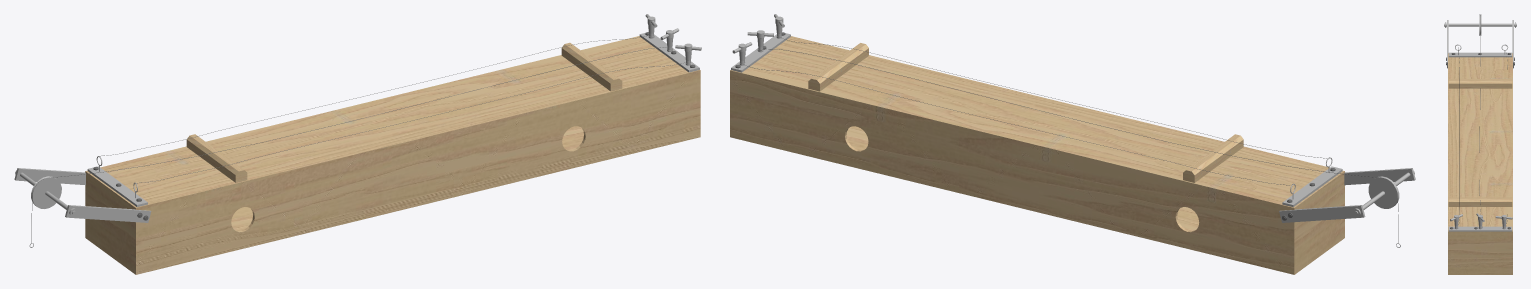
The model's file is A sonometer.fbx.
3 views of the same model, side by side, from view 1: azimuth 30°, elevation 25°; view 2: azimuth 150°, elevation 25°; view 3: azimuth 270°, elevation 25° (orthographic). The views are drawn at different scales.
Visible parts, largest first — view 1: pCube10, pCube6, pCube2, pCube7, pCube8, pCylinder4, pCylinder23, pCube5, pCube4, pCylinder22, pCylinder21; view 2: pCube10, pCube2, pCube6, pCube8, pCube7, pCylinder4, pCube5, pCylinder23, pCube4, pCylinder22, pCylinder21; view 3: pCube10, pCube2, pCube6, pCube5, pCube4, pCylinder1, pCylinder18 (×3), pCylinder21, pCylinder23, pCube8, pCube7, pCylinder4.
Part boxes in pixels (x1,y1,x2,y2): pCube10: (85,36,700,274); pCube6: (561,42,622,91); pCube2: (186,134,247,182); pCube7: (65,205,151,222); pCube8: (14,168,85,185); pCylinder4: (31,176,61,208); pCylinder23: (31,47,672,242); pCube5: (87,166,147,206); pCube4: (639,33,699,72); pCylinder22: (98,35,652,156); pCylinder21: (135,62,685,183); pCube10: (730,36,1344,274); pCube2: (1183,134,1243,182); pCube6: (808,43,868,91); pCube8: (1279,205,1365,222); pCube7: (1344,168,1415,185); pCylinder4: (1368,176,1399,208); pCube5: (1282,166,1342,207); pCylinder23: (757,49,1398,242); pCube4: (731,33,790,72); pCylinder22: (742,64,1292,185); pCylinder21: (778,37,1329,158); pCube10: (1448,53,1512,274); pCube2: (1448,79,1512,88); pCube6: (1448,197,1512,206); pCube5: (1448,52,1512,57); pCube4: (1448,226,1512,231); pCylinder1: (1444,23,1516,26); pCylinder18 (×3): (1454,215,1506,229); pCylinder21: (1458,47,1459,224); pCylinder23: (1479,15,1482,228); pCube8: (1512,20,1513,68); pCube7: (1447,20,1448,68); pCylinder4: (1479,14,1481,35).
Size of the model in its own units: 22.13 by 3.08 by 3.31.
